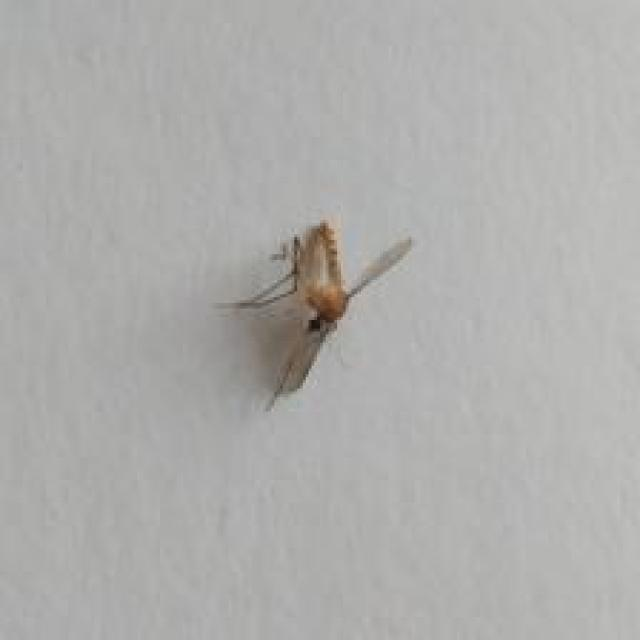Culex: (214, 217, 414, 412)
